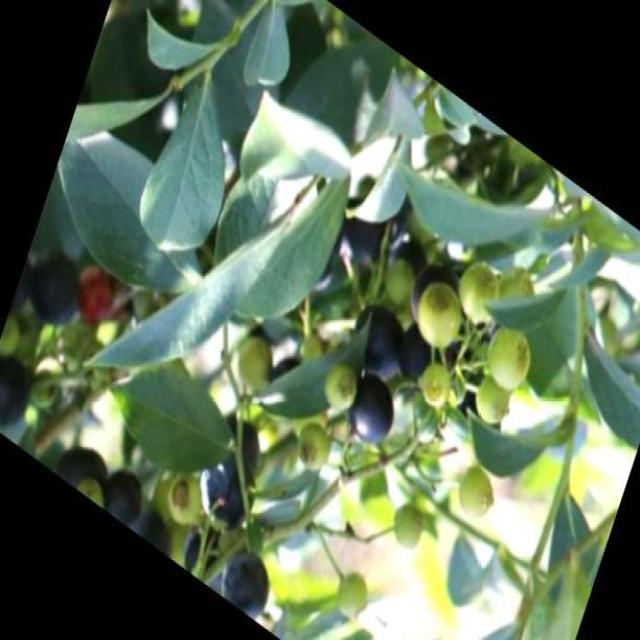blueberry: (328, 180, 402, 287), (398, 246, 468, 350), (340, 293, 408, 389), (192, 436, 260, 532), (389, 312, 454, 402), (338, 366, 400, 454), (220, 544, 274, 620)
blueberry-halfripe: (67, 254, 119, 334)
blueberry-unripe: (475, 311, 536, 398), (410, 271, 469, 356), (224, 317, 282, 400), (452, 252, 505, 336), (157, 461, 210, 535), (448, 452, 498, 527), (326, 558, 374, 629), (315, 347, 362, 417), (468, 364, 514, 433), (413, 350, 456, 414), (290, 419, 334, 481), (387, 494, 427, 555)
